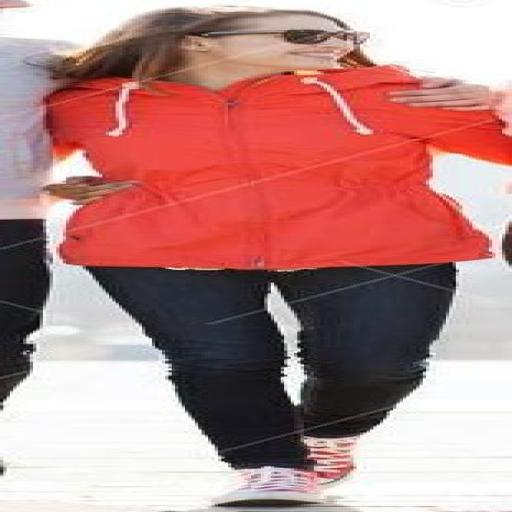person: (50, 7, 511, 505), (0, 37, 75, 408)
